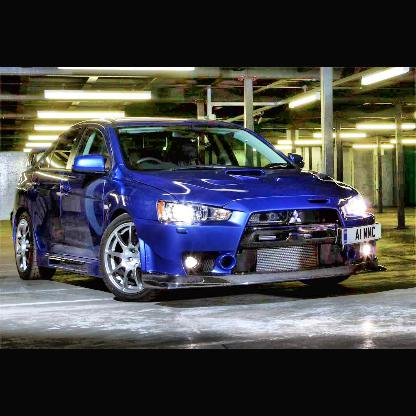Mitsubishi Lancer Sedan 2012: (12, 120, 389, 306)
